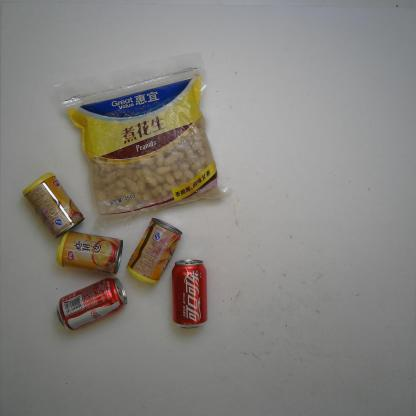Canned Food: (21, 172, 86, 240), (125, 215, 184, 286), (55, 229, 125, 275)
Dried Food: (52, 50, 233, 236)
Drink: (55, 276, 130, 332), (171, 256, 210, 330)
